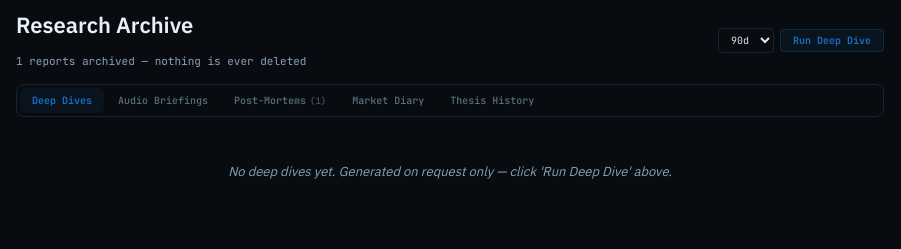
Archive view async data › shows a scoring-held banner on the postmortems tab, with the as_of date from the API
Click the button "Post-Mortems(1)".
click(280, 101)  # box [222, 88, 338, 113]
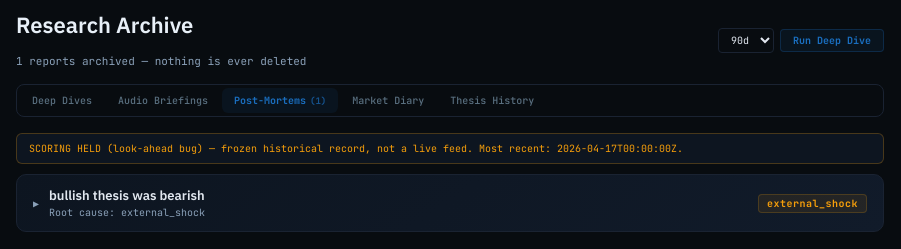
Expected: the text "SCORING HELD" is shown, [29, 142, 473, 155]
Expected: the text "2026-04-17T00:00:00Z" is shown, [473, 142, 683, 155]
